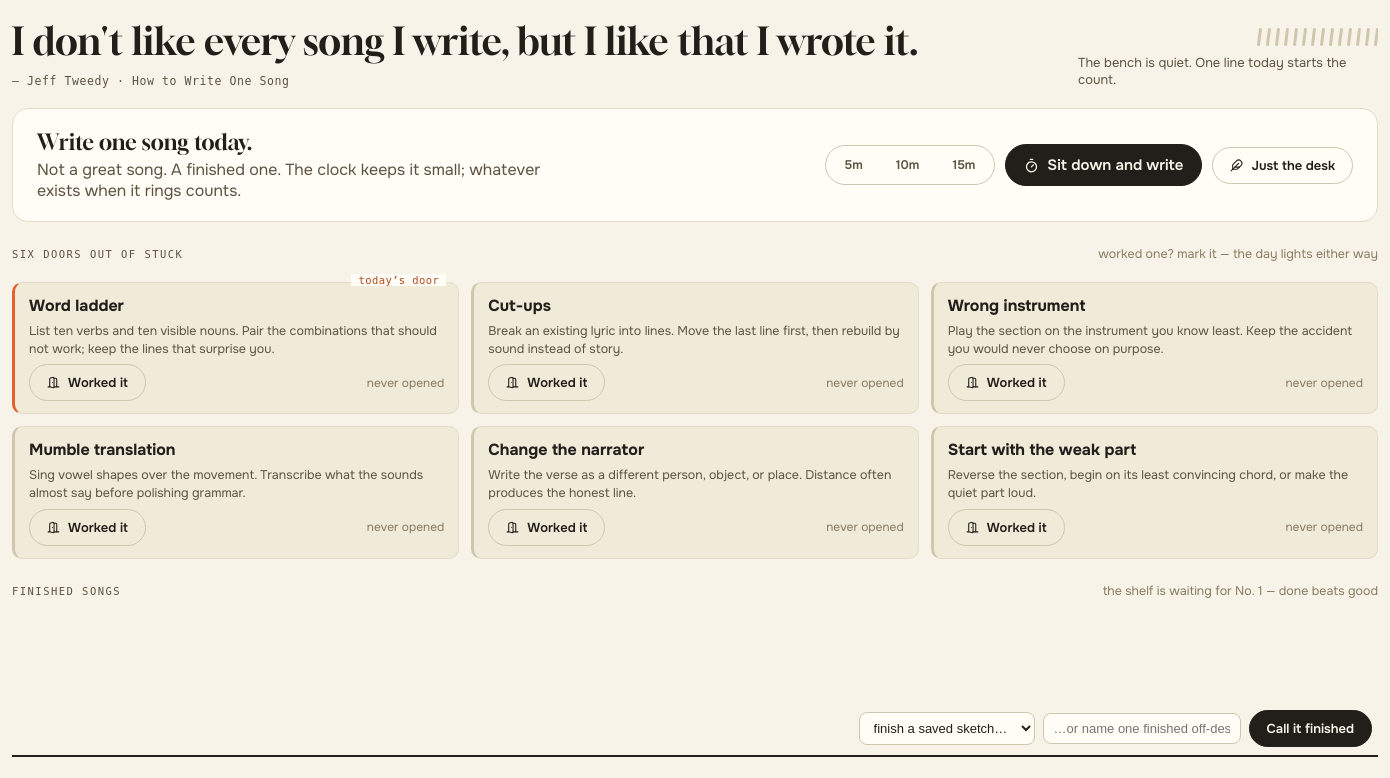
Test case: OneSong › a finished sketch leaves the finish picker
Select "Porch Song" in the dropdown named "pick a sketch to finish" at {"x": 947, "y": 728}, box 859,712 -> 1035,744
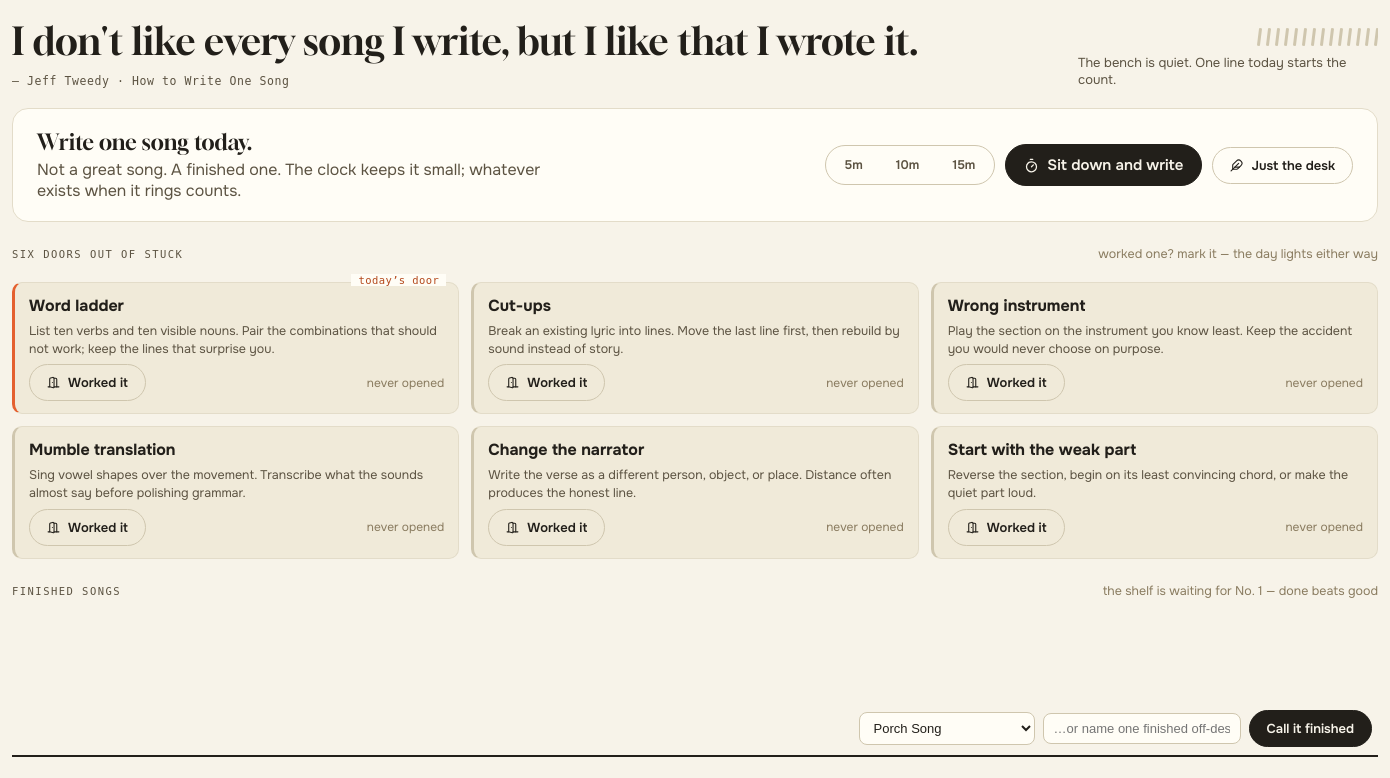
Click the button "Call it finished" at {"x": 1310, "y": 728}, box 1249,710 -> 1372,746
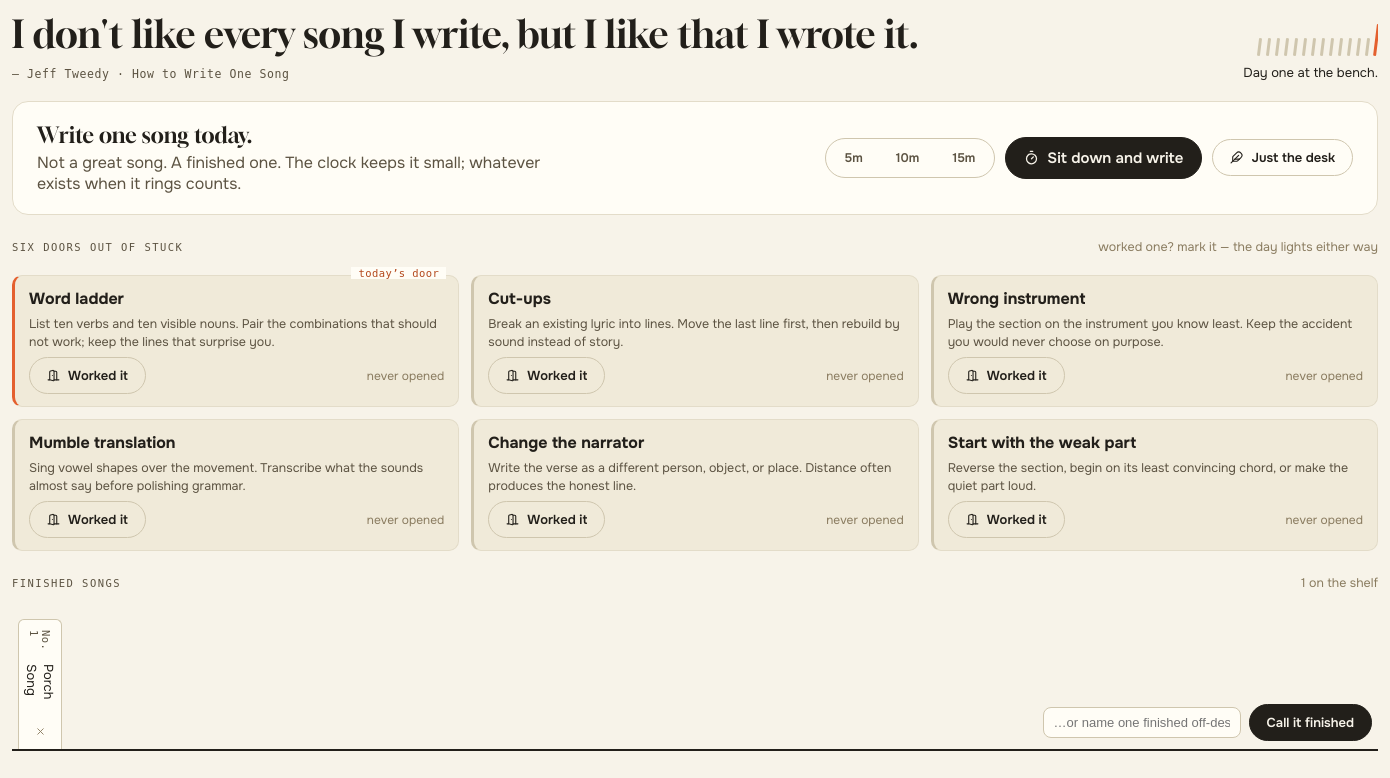
Expected: the text "Porch Song" is shown, 23,664 -> 57,716
